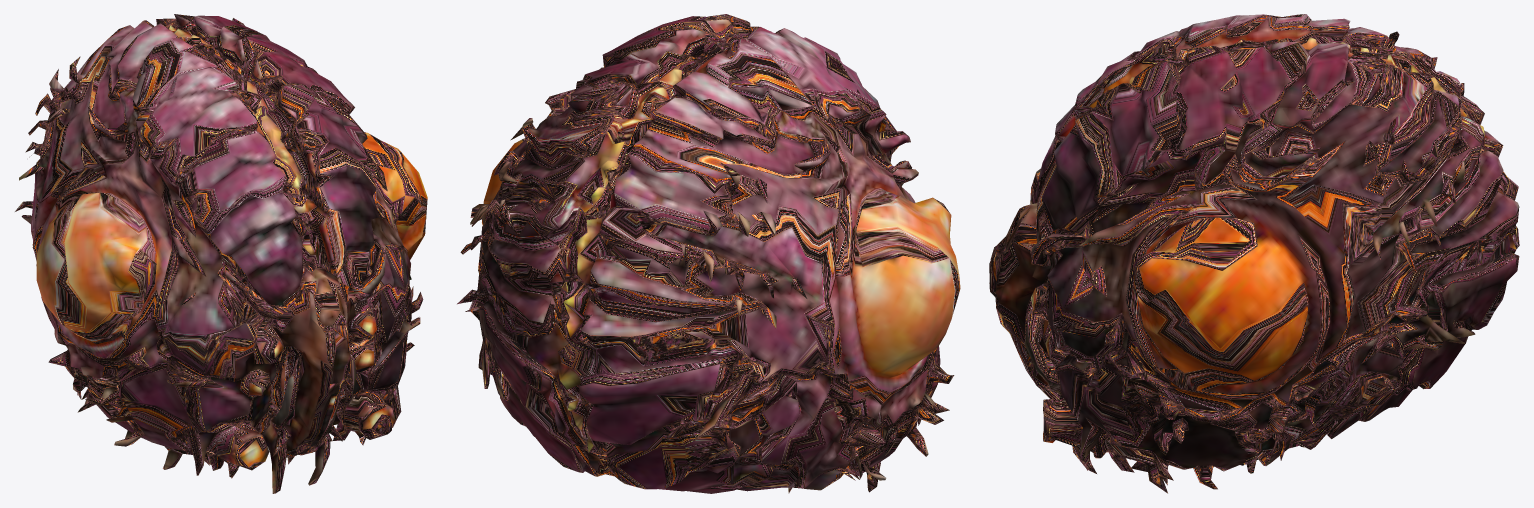
3 renders of one model, left to right at view 1: azimuth 30°, elevation 25°; view 2: azimuth 150°, elevation 25°; view 3: azimuth 270°, elevation 25°, orthographic. The views are drawn at different scales.
Bounding box in the file's own units: 0.8953 × 0.9187 × 1.
Materials: 1 (1 with a texture image).
